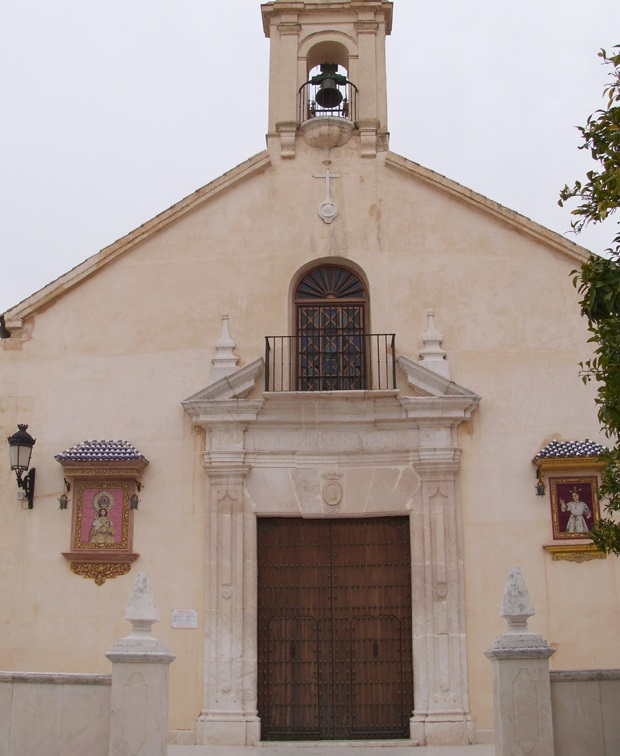fronton-partido: (179, 352, 489, 416)
vano-adintelado: (247, 495, 428, 747)
